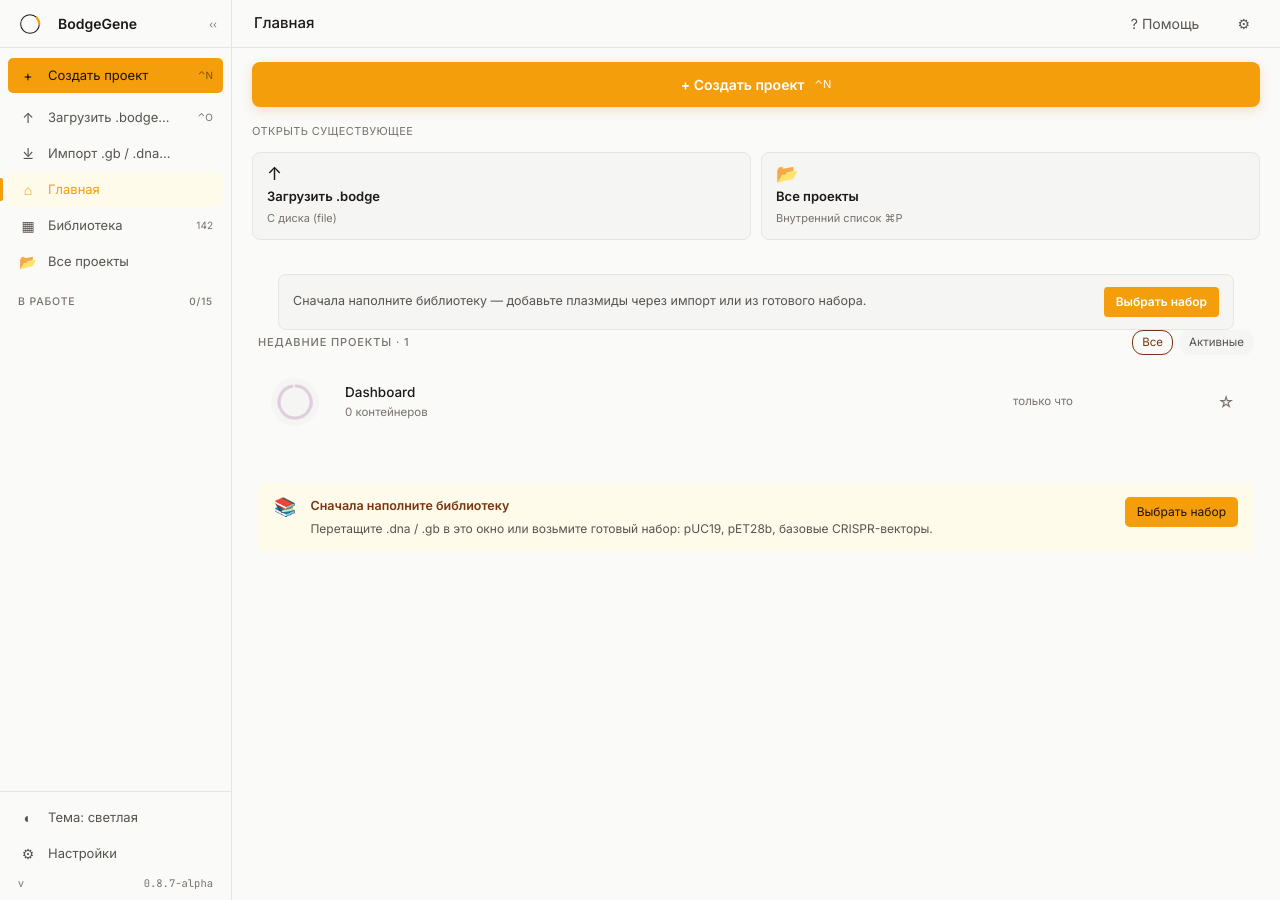
StartScreen-Pixel — Sidebar collapse › toggle button flips collapsed state (works in both directions)
The image size is (1280, 900).
Click the button with test id "ss-sidebar-toggle".
click(213, 24)  # box [205,16,221,32]
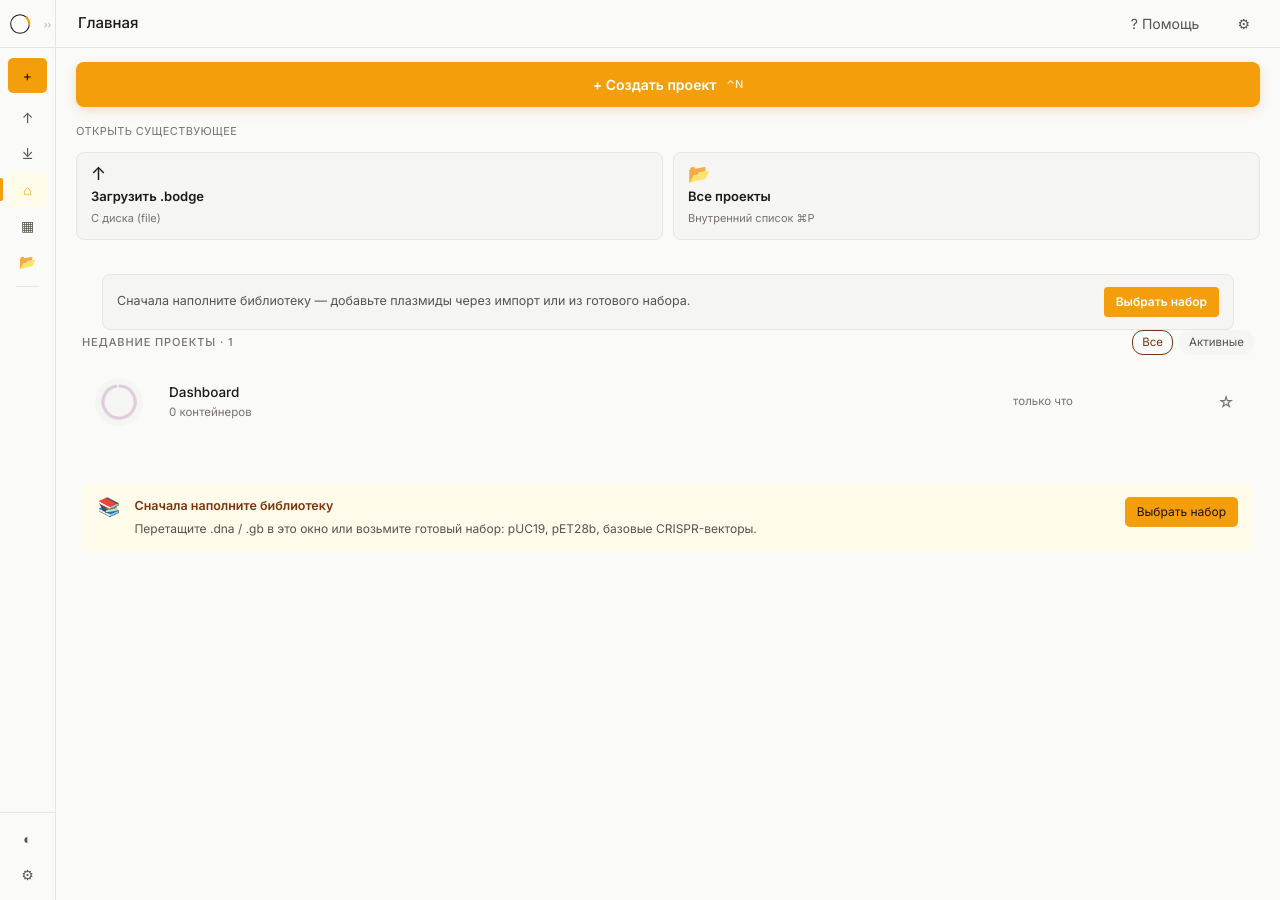
Result: the button with test id "ss-sidebar-toggle" reads "››"
Note: Click again to expand.
Click the button with test id "ss-sidebar-toggle".
click(48, 24)  # box [40,16,55,32]
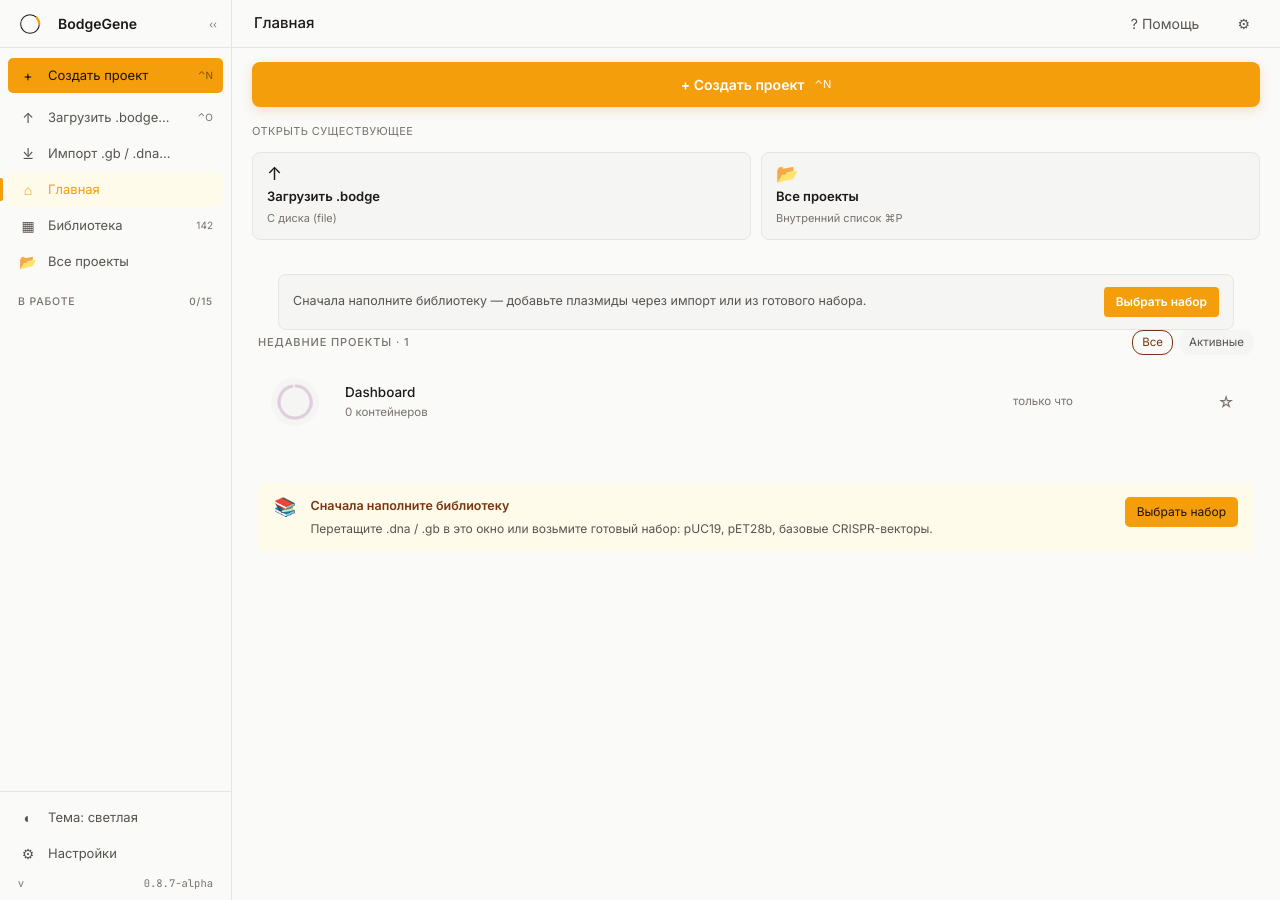
Result: the button with test id "ss-sidebar-toggle" reads "‹‹" at [205,16,221,32]
